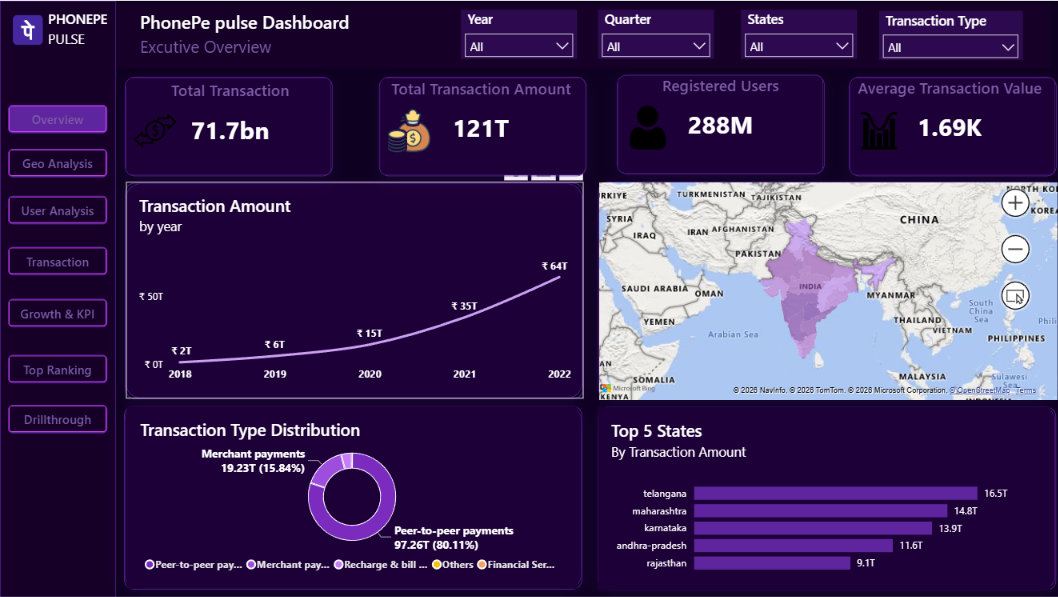

Layout of this report page (visuals, bound fields, positions):
{"tool":"powerbi","page":{"name":"Overview","canvas":[1280,720],"ordinal":0},"visuals":[{"type":"shape","box":[721.4,490,552.9,221.4],"z":0},{"type":"shape","box":[0,2,140,89],"z":1000},{"type":"shape","box":[0,0,140,720],"z":2000},{"type":"shape","box":[744.4,88.9,250,120],"z":3000},{"type":"actionButton","title":"overview","box":[9.7,125.5,120.6,105],"z":4000},{"type":"shape","title":"PHONEPE ","box":[58,11,78,60],"z":5000},{"type":"cardVisual","title":"Registered Users","fields":{"Data":["Dim_Date.Registered Users"]},"box":[744.4,88.9,250,120],"z":6000},{"type":"actionButton","title":"Geo Analysis","box":[9.7,258.2,120.6,92.9],"z":7000},{"type":"image","box":[755,117,52.9,72.4],"z":8000},{"type":"actionButton","title":"User Analysis","box":[9.7,368,120.6,100.1],"z":9000},{"type":"actionButton","title":"Transaction\n","box":[9.7,489.8,120.6,103.8],"z":11000},{"type":"image","box":[10,0,48,71],"z":14000},{"type":"shape","title":"PhonePe Pulse Dashboard","box":[140,2.2,1127.8,78.9],"z":15000},{"type":"textbox","title":"PhonePe pulse Dashboard","box":[151.1,2.2,447.8,68.9],"z":16000},{"type":"shape","box":[1024.3,91.1,250,120],"z":17000},{"type":"shape","box":[151,219,553,261],"z":18000},{"type":"lineChart","title":"Transaction Amount","fields":{"Category":["aggregated_transaction.year"],"Y":["Sum(aggregated_transaction.amount)"]},"box":[151.4,218.6,552.9,261.4],"z":19000},{"type":"shape","box":[721.1,218.9,553.3,261.1],"z":20000},{"type":"shape","box":[457.8,91.1,250,120],"z":21000},{"type":"filledMap","fields":{"Category":["map_transaction.states"]},"box":[722.7,219.3,552.5,262.5],"z":22000},{"type":"cardVisual","title":"Total Transaction Amount","fields":{"Data":["Dim_Date.Total Amount"]},"box":[457.8,93.3,246.7,116.7],"z":23000},{"type":"shape","box":[150,488.6,552.9,221.4],"z":24000},{"type":"image","box":[468.1,120,51.5,74.4],"z":25000},{"type":"shape","box":[151.1,91.1,250,120],"z":26000},{"type":"donutChart","title":"Transaction Type Distribution","fields":{"Category":["aggregated_transaction.trans_type"],"Y":["Sum(aggregated_transaction.amount)"]},"box":[153,489,543,221],"z":27000},{"type":"clusteredBarChart","title":"Top 5 States","fields":{"Category":["Dim_State.states"],"Y":["Sum(aggregated_transaction.amount)"]},"box":[721.4,490,545.7,221.4],"z":28000},{"type":"cardVisual","title":"Total Transaction","fields":{"Data":["Dim_Date.Total Transactions"]},"box":[161.1,95.6,232.2,111.1],"z":29000},{"type":"slicer","fields":{"Values":["aggregated_transaction.year"]},"box":[556.7,11.1,140,58.9],"z":30000},{"type":"cardVisual","title":"Average Transaction Value ","fields":{"Data":["Dim_Date.Average Transaction Value"]},"box":[1024.4,92.2,243.3,116.7],"z":31000},{"type":"slicer","fields":{"Values":["aggregated_transaction.quarter"]},"box":[721.1,11.1,140,58.9],"z":32000},{"type":"slicer","fields":{"Values":["map_transaction.states"]},"box":[894.4,11.1,140,58.9],"z":33000},{"type":"image","box":[161.4,120,51.5,74.4],"z":34000},{"type":"image","box":[1034.6,120,51.5,74.4],"z":35000},{"type":"slicer","fields":{"Values":["aggregated_transaction.trans_type"]},"box":[1060,12.2,173.3,58.9],"z":36000}]}

Visuals, with their boxes in screenshot pixels (x1, y1, x2, y2), scaled from the page's 1280x720 canvas onto the 1058x597 screenshot:
shape: crop(596, 406, 1053, 590)
shape: crop(0, 2, 116, 75)
shape: crop(0, 0, 116, 596)
shape: crop(615, 74, 822, 173)
"overview" actionButton: crop(8, 104, 108, 191)
"PHONEPE " shape: crop(48, 9, 112, 59)
"Registered Users" cardVisual: crop(615, 74, 822, 173)
"Geo Analysis" actionButton: crop(8, 214, 108, 291)
image: crop(624, 97, 668, 157)
"User Analysis" actionButton: crop(8, 305, 108, 388)
"Transaction
" actionButton: crop(8, 406, 108, 492)
image: crop(8, 0, 48, 59)
"PhonePe Pulse Dashboard" shape: crop(116, 2, 1048, 67)
"PhonePe pulse Dashboard" textbox: crop(125, 2, 495, 59)
shape: crop(847, 76, 1053, 175)
shape: crop(125, 182, 582, 398)
"Transaction Amount" lineChart: crop(125, 181, 582, 398)
shape: crop(596, 182, 1053, 398)
shape: crop(378, 76, 585, 175)
filledMap - map_transaction.states: crop(597, 182, 1054, 399)
"Total Transaction Amount" cardVisual: crop(378, 77, 582, 174)
shape: crop(124, 405, 581, 589)
image: crop(387, 100, 429, 161)
shape: crop(125, 76, 332, 175)
"Transaction Type Distribution" donutChart: crop(126, 405, 575, 589)
"Top 5 States" clusteredBarChart: crop(596, 406, 1047, 590)
"Total Transaction" cardVisual: crop(133, 79, 325, 171)
slicer - aggregated_transaction.year: crop(460, 9, 576, 58)
"Average Transaction Value " cardVisual: crop(847, 76, 1048, 173)
slicer - aggregated_transaction.quarter: crop(596, 9, 712, 58)
slicer - map_transaction.states: crop(739, 9, 855, 58)
image: crop(133, 100, 176, 161)
image: crop(855, 100, 898, 161)
slicer - aggregated_transaction.trans_type: crop(876, 10, 1019, 59)
